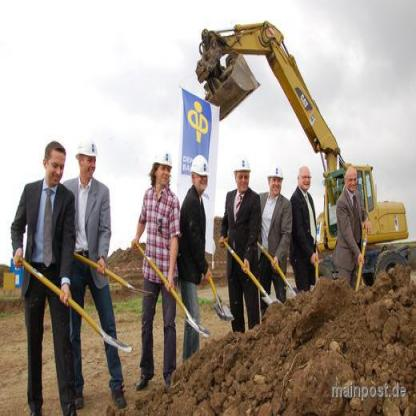person: (12, 118, 70, 409), (69, 119, 121, 415), (128, 130, 178, 388), (325, 132, 373, 358), (179, 134, 218, 372), (221, 140, 267, 322), (260, 137, 292, 329), (290, 154, 314, 316)
